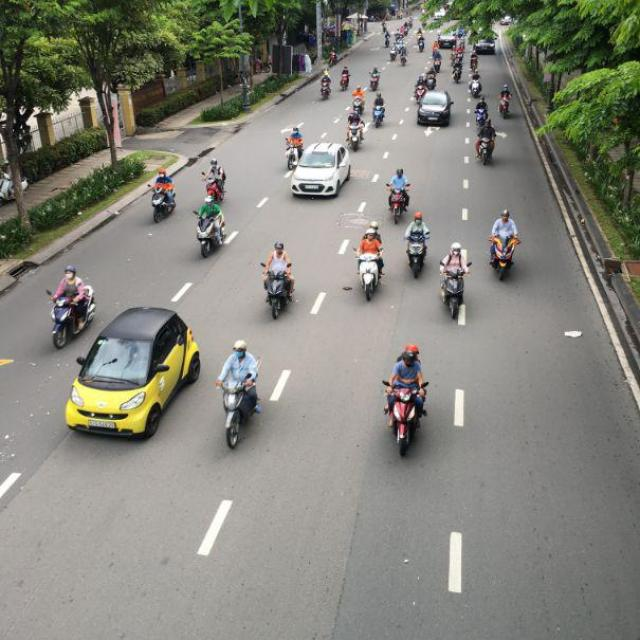car: (67, 305, 203, 442), (289, 143, 352, 200), (416, 90, 454, 126), (474, 42, 498, 56)
motorcycle: (220, 374, 261, 448), (384, 386, 424, 458), (50, 287, 96, 348), (195, 204, 228, 258), (487, 235, 519, 282), (263, 268, 291, 320), (441, 269, 468, 322), (357, 250, 383, 304), (282, 127, 304, 174), (476, 126, 498, 168), (152, 188, 177, 220), (407, 242, 427, 281), (345, 116, 364, 150), (391, 188, 411, 220), (499, 96, 516, 122), (374, 103, 388, 129), (451, 58, 463, 82), (319, 82, 335, 100)
